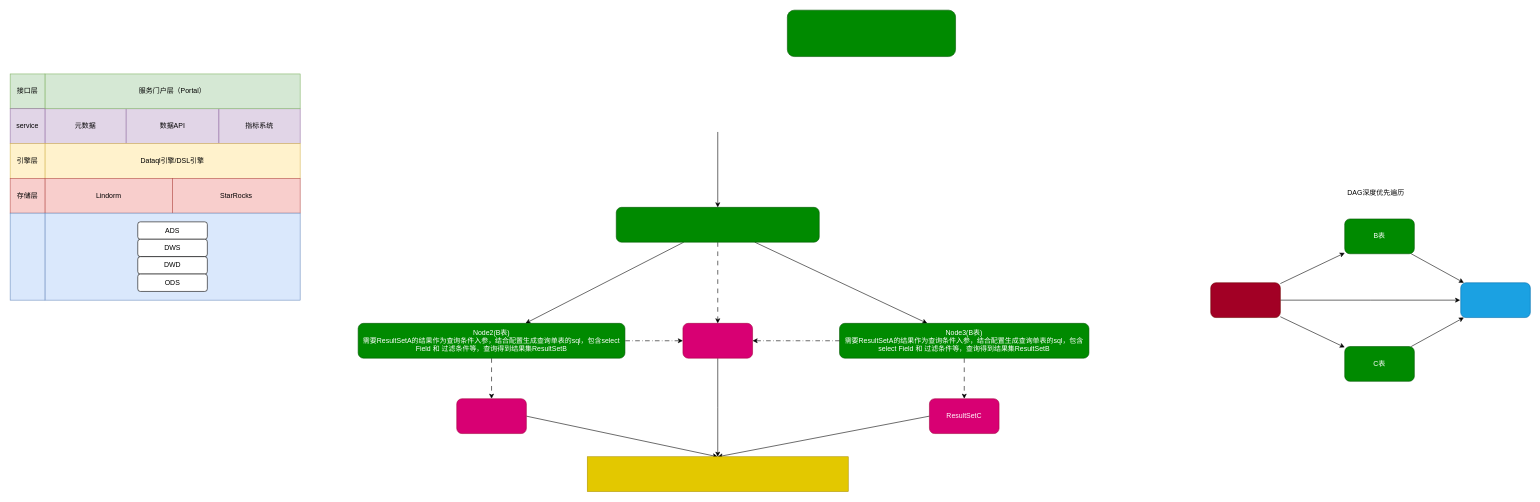
This 1540x502 diagram has some shape labels left out. Here are the shapes that lost their labels. From the top down, the centre of each, then its label:
At pixel 871 33: "Node 通过配置生成查询单表的sql，包含select Field 和 过滤条件等".
At pixel 717 224: "Node1(A表) 通过配置生成查询单表的sql，包含select Field 和 过滤条件等".
At pixel 27 256: "数仓层".
At pixel 1245 300: "虚拟节点".
At pixel 1495 300: "A表".
At pixel 717 340: "ResultSetA".
At pixel 491 416: "ResultSetB".
At pixel 717 474: "目标结果集 ResultSet=( ResultSetA + ResultSetB + ResultSetC )".
